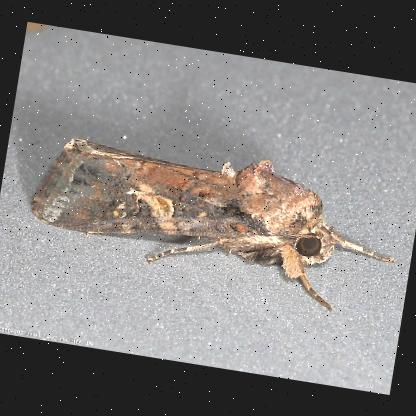Fall Armyworm Moth: (18, 122, 410, 322)
